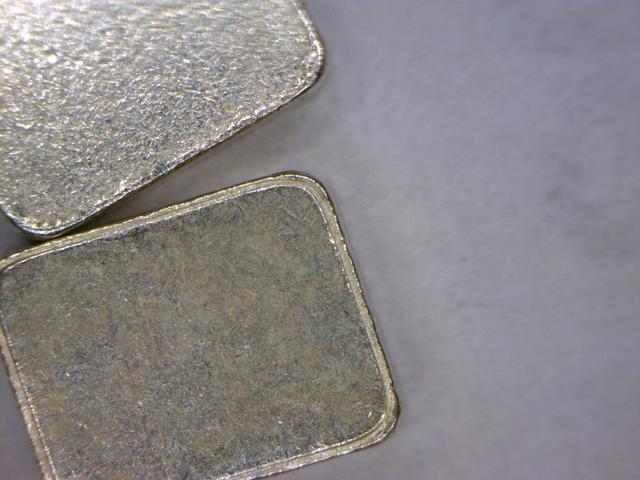nok: (3, 167, 425, 477)
